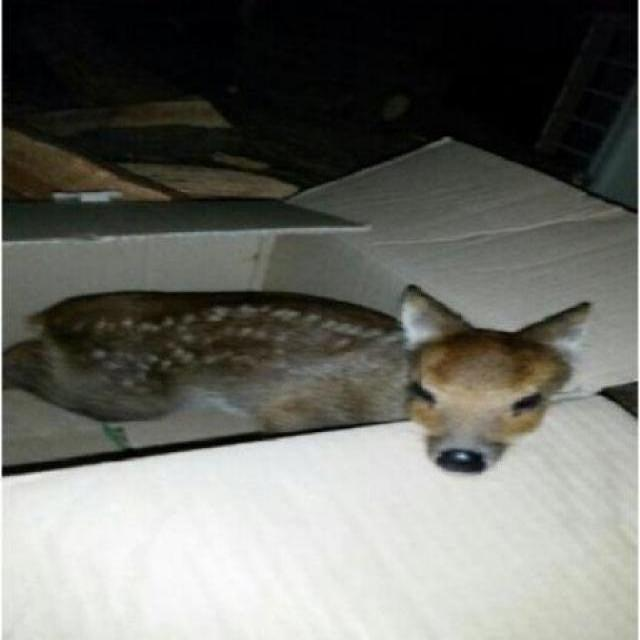deer: (3, 261, 597, 478)
